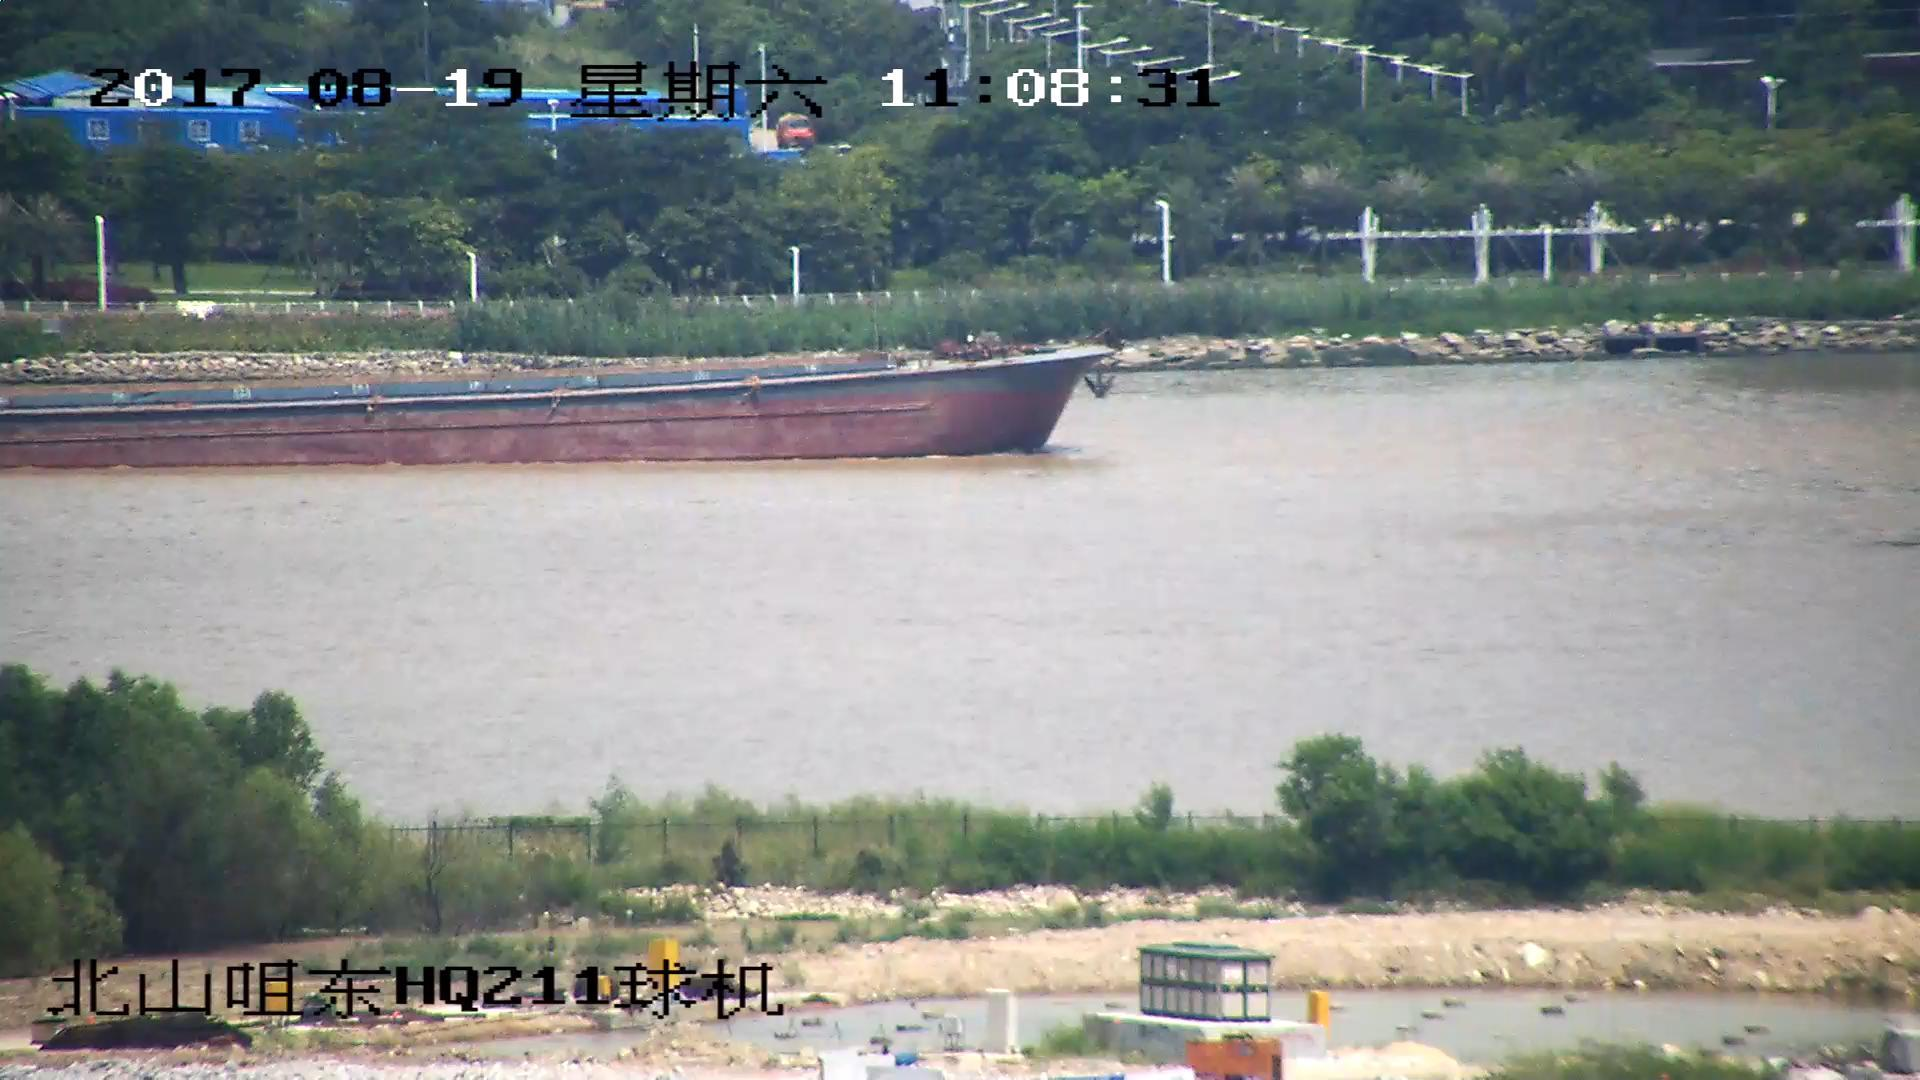Ship: (3, 323, 1117, 468)
